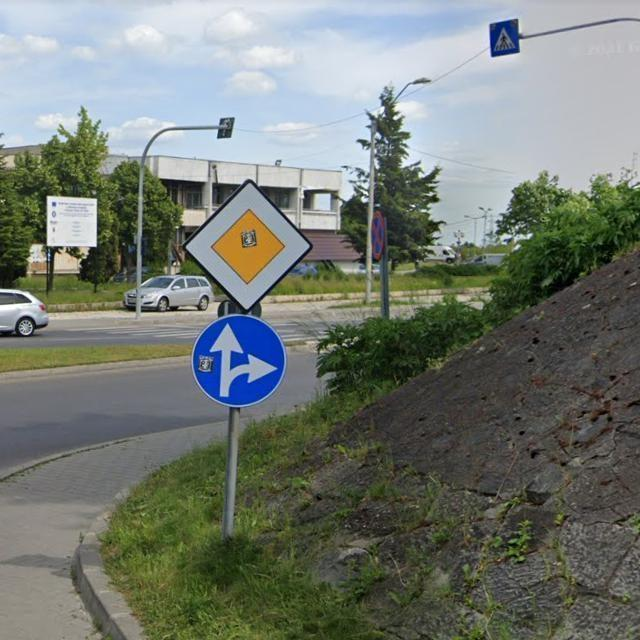forb_waiting: (371, 211, 385, 260)
info_crosswalk: (489, 19, 520, 57)
